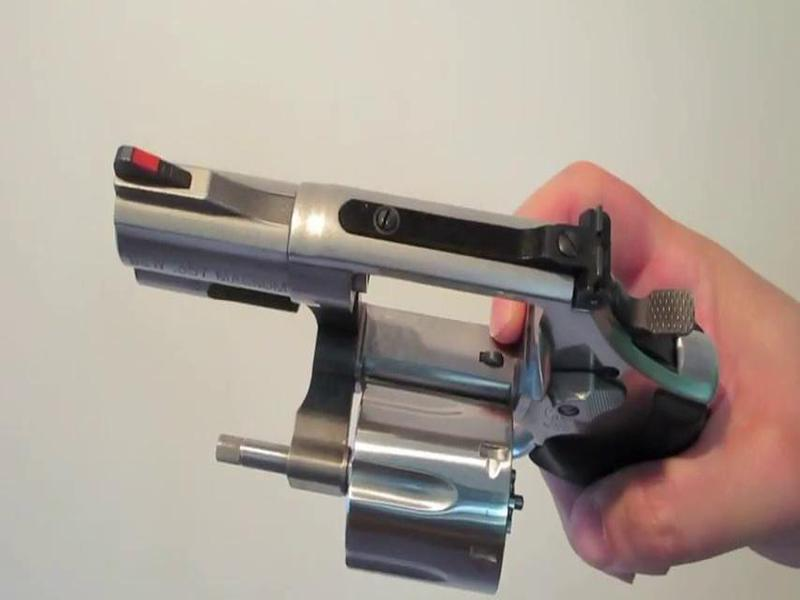Revolver: (106, 127, 758, 593)
